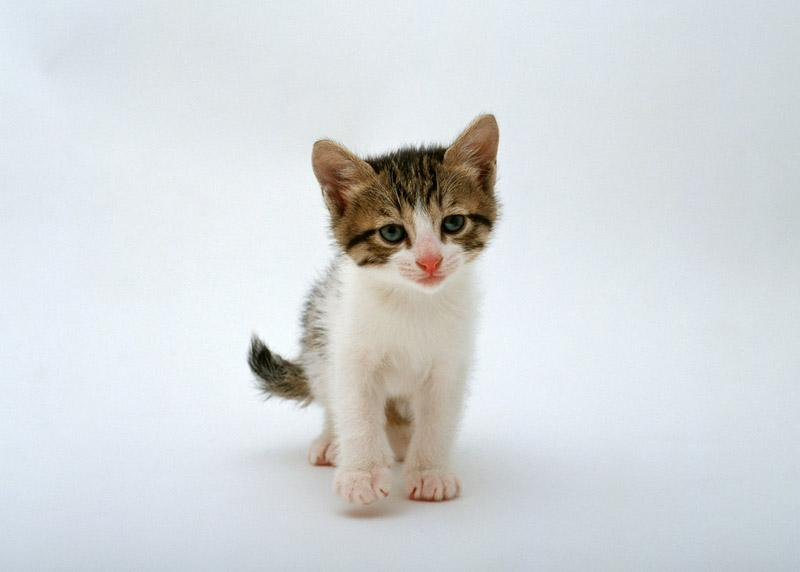cat: (244, 111, 502, 507)
